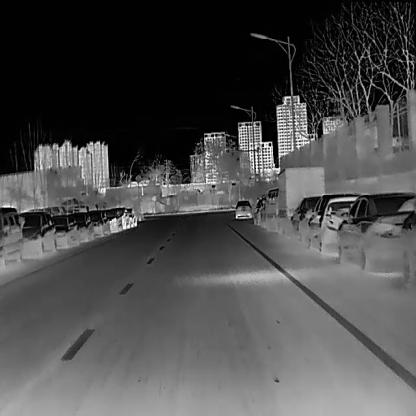car: (336, 191, 415, 273), (307, 192, 359, 254), (19, 210, 56, 257), (0, 206, 25, 266), (290, 194, 320, 242), (52, 214, 80, 249), (71, 211, 95, 242), (86, 209, 110, 237), (262, 188, 278, 230), (251, 194, 266, 225), (105, 208, 122, 232), (125, 206, 136, 228)
truck: (274, 166, 324, 232), (233, 199, 252, 217)
